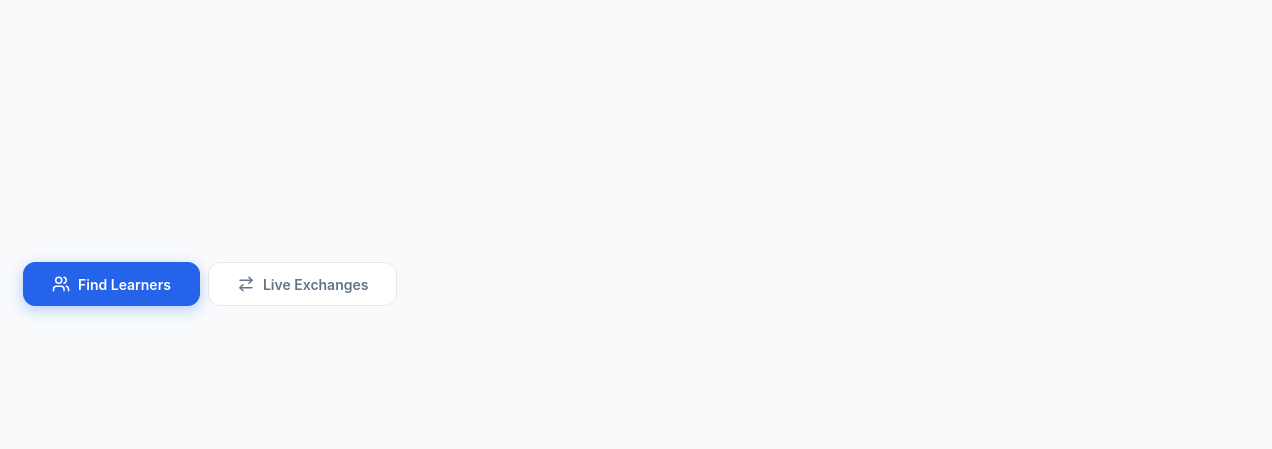
it: SkillSwap Page › switches back to the learner tab
This screenshot has width=1272, height=449.
Click the button "Live Exchanges": (303, 284) [208, 262, 397, 306]
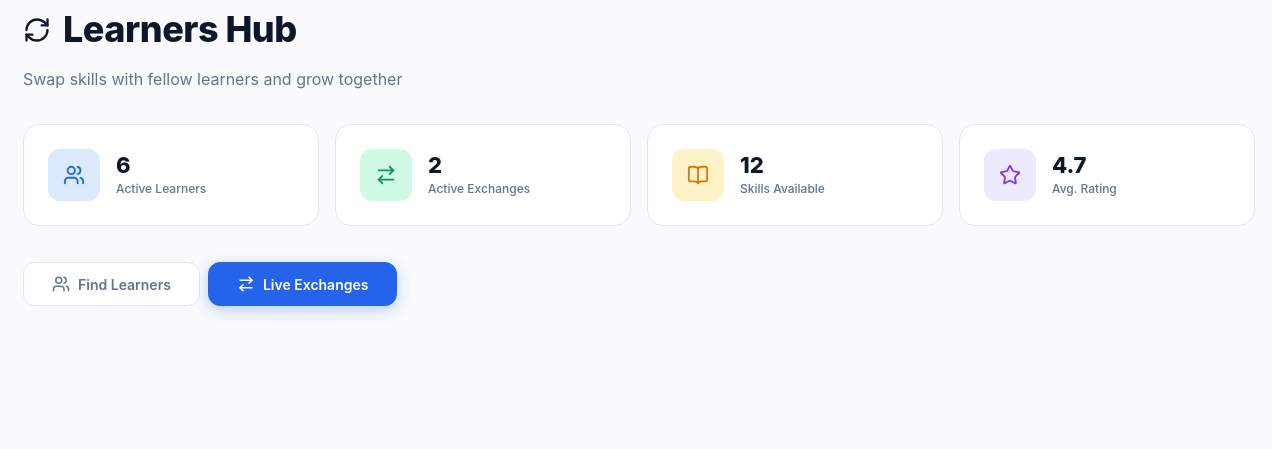
Click the button "Find Learners": (111, 284) [23, 262, 200, 306]
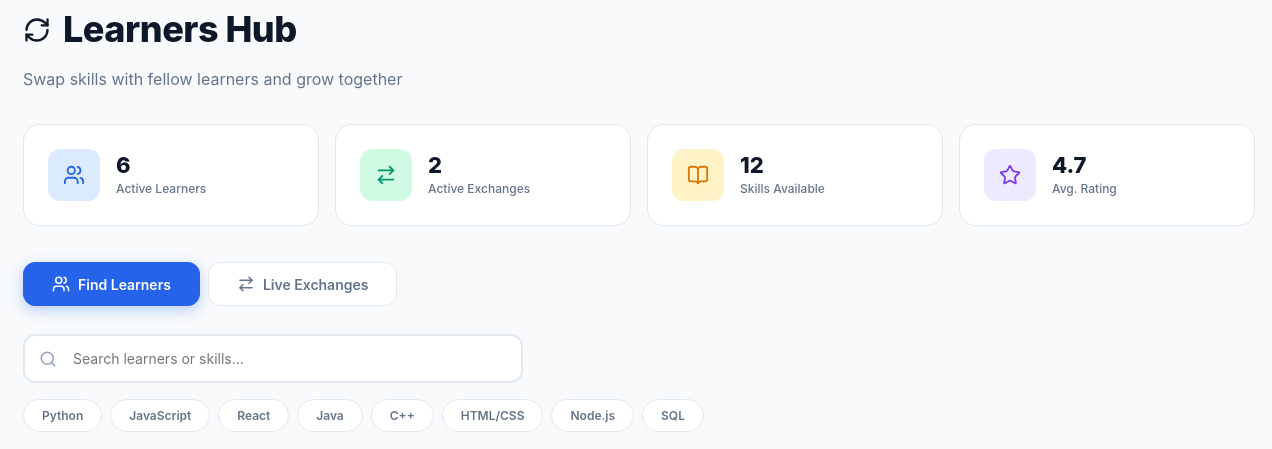
Expected: the element with class "swap-filters" is shown, [23, 334, 704, 432]
